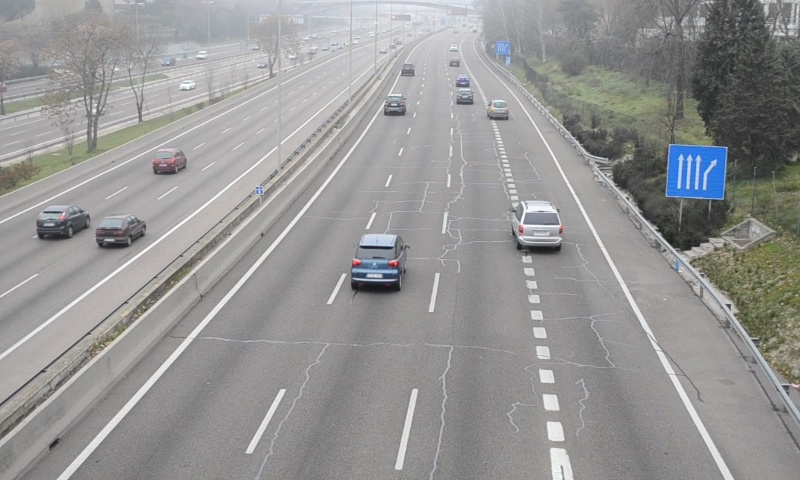car: (352, 233, 407, 287), (511, 200, 562, 248), (486, 98, 509, 120), (384, 93, 406, 116), (456, 87, 474, 105)
